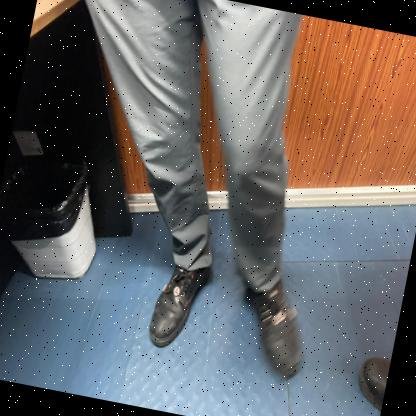bota: (228, 271, 317, 383), (145, 253, 214, 356)
